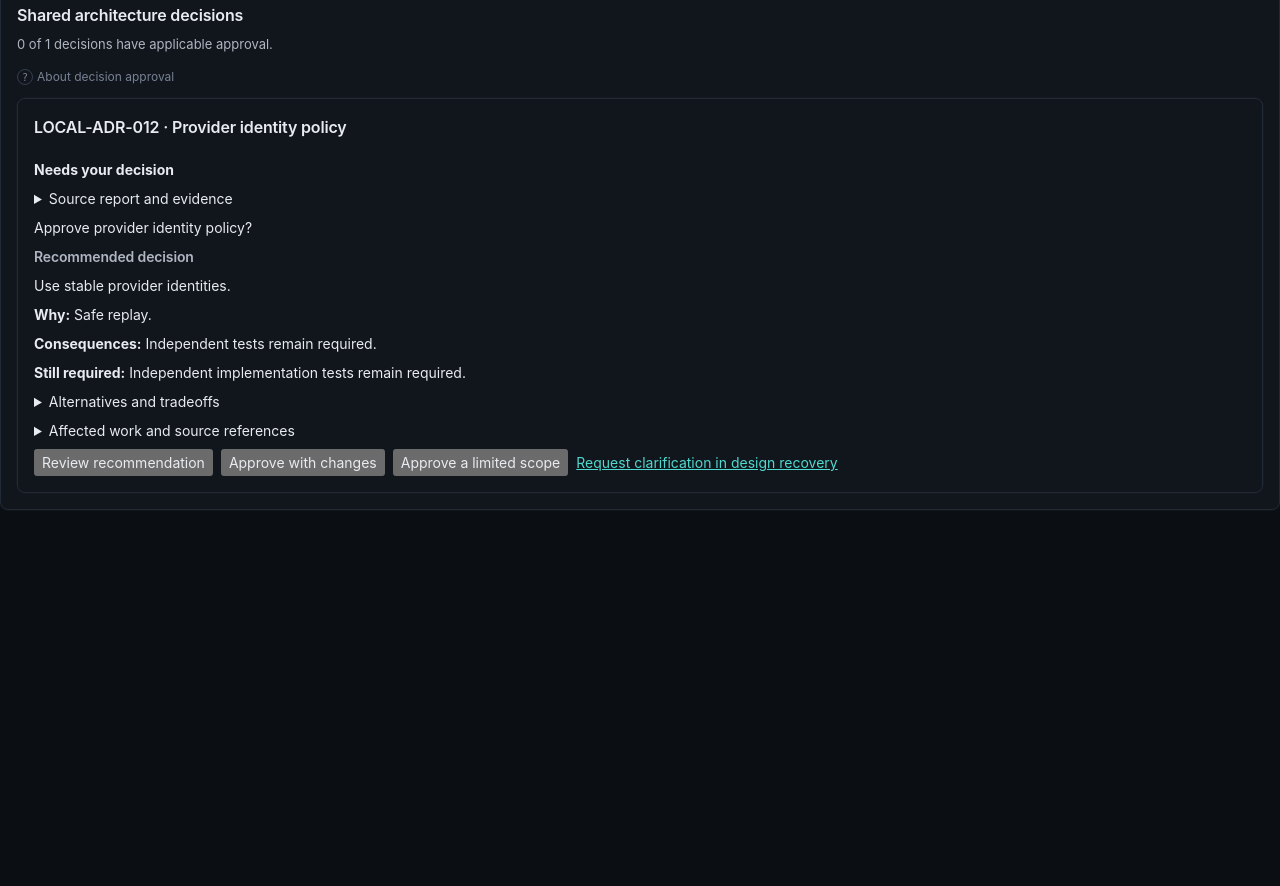
Test: collects references, reviews an immutable proposal, and requires explicit approval before sharing it
Expected: the text "Needs your decision" is shown, top-left (34, 161), bottom-right (174, 178)
Click the button "Review recommendation" at [123, 462], box top-left (34, 449), bottom-right (213, 476)
(page scrolled)
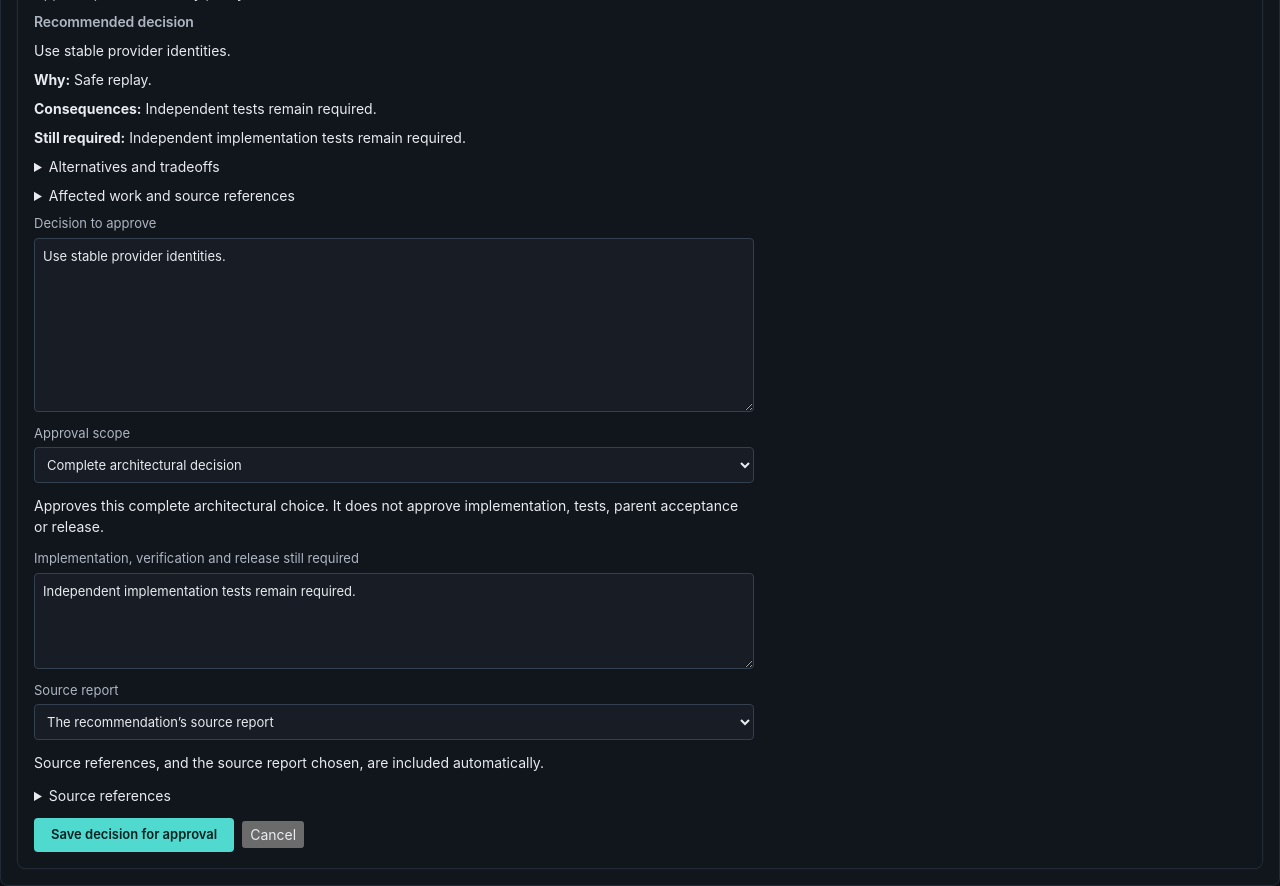
Expected: the text box labelled "Decision to approve" holds "Use stable provider identities.", top-left (34, 238), bottom-right (754, 412)
Click the button "Save decision for approval" at [134, 835], box top-left (34, 818), bottom-right (234, 852)
(page scrolled)
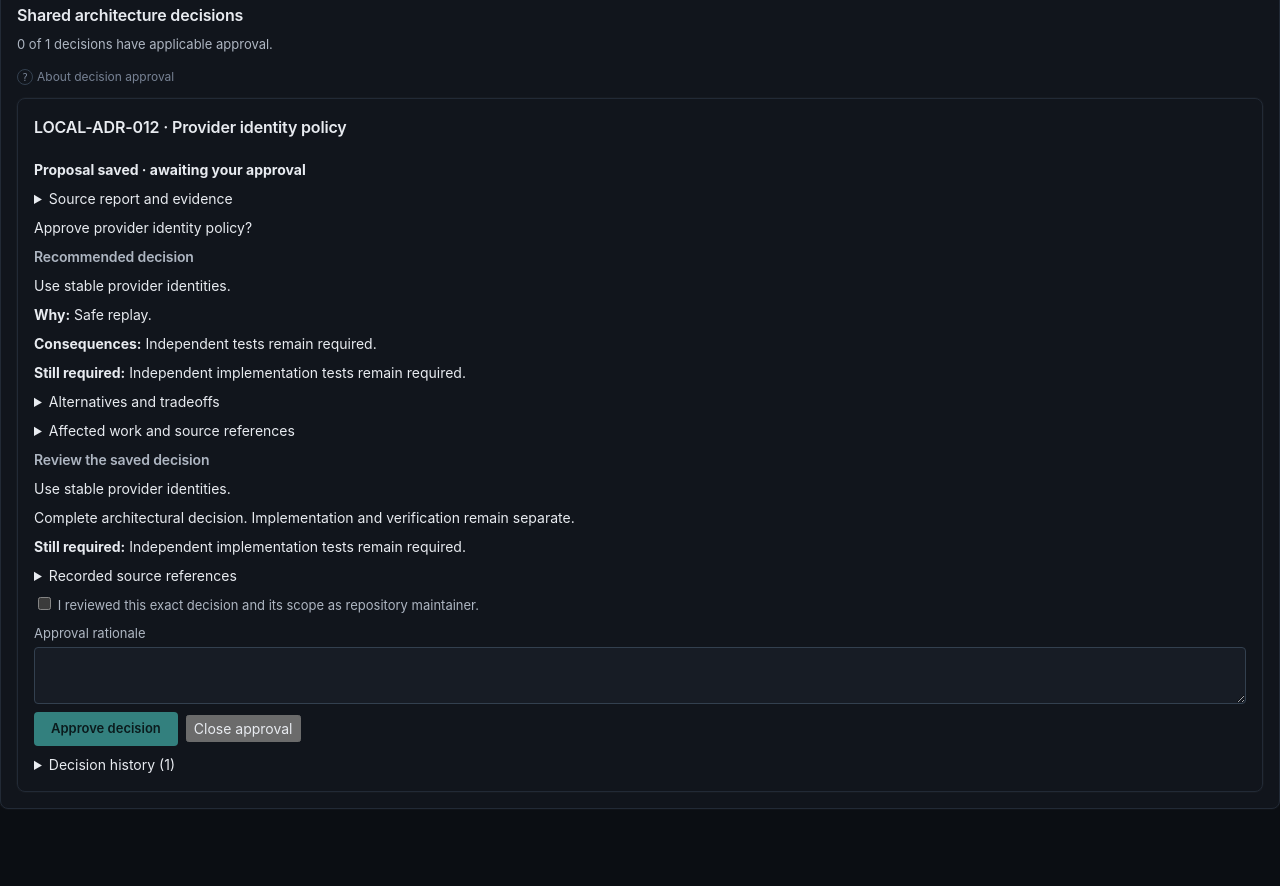
Expected: the button "Approve decision" is disabled, top-left (34, 712), bottom-right (178, 746)
Click the checkbox labelled "I reviewed this exact decision" at [44, 604], box top-left (38, 597), bottom-right (51, 610)
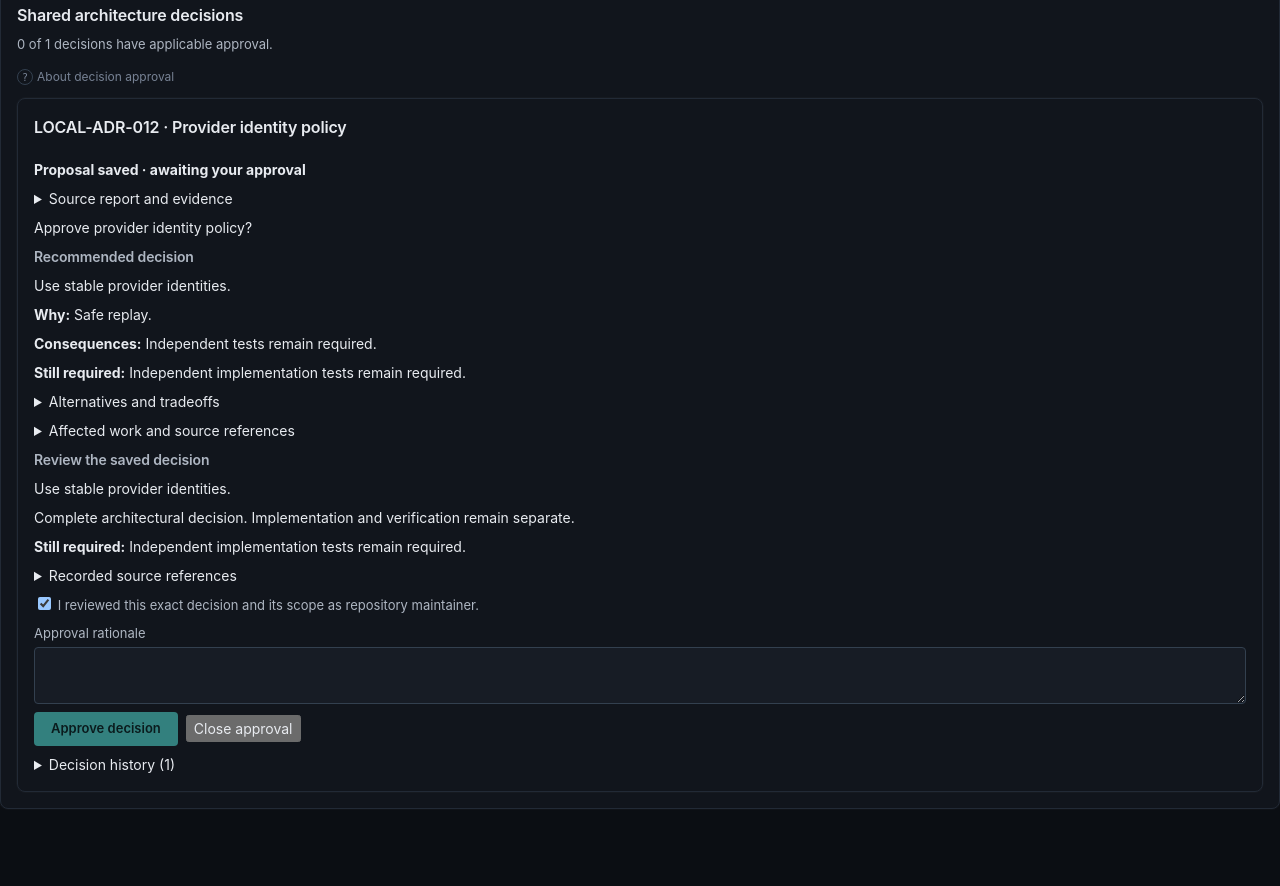
Type "Fits replay needs." into the text box labelled "Approval rationale" at [640, 676], box top-left (34, 647), bottom-right (1246, 704)
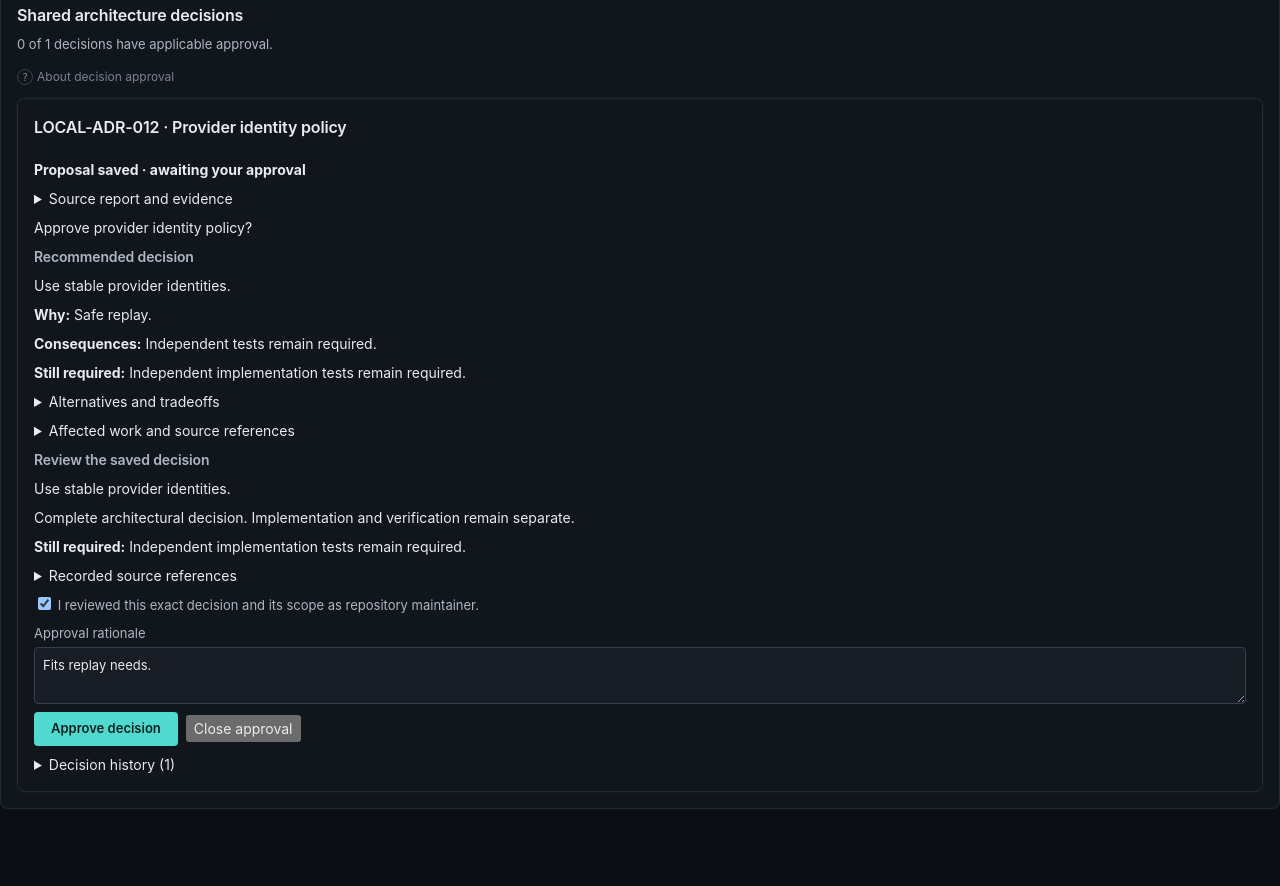
Click the button "Approve decision" at [106, 729], box top-left (34, 712), bottom-right (178, 746)
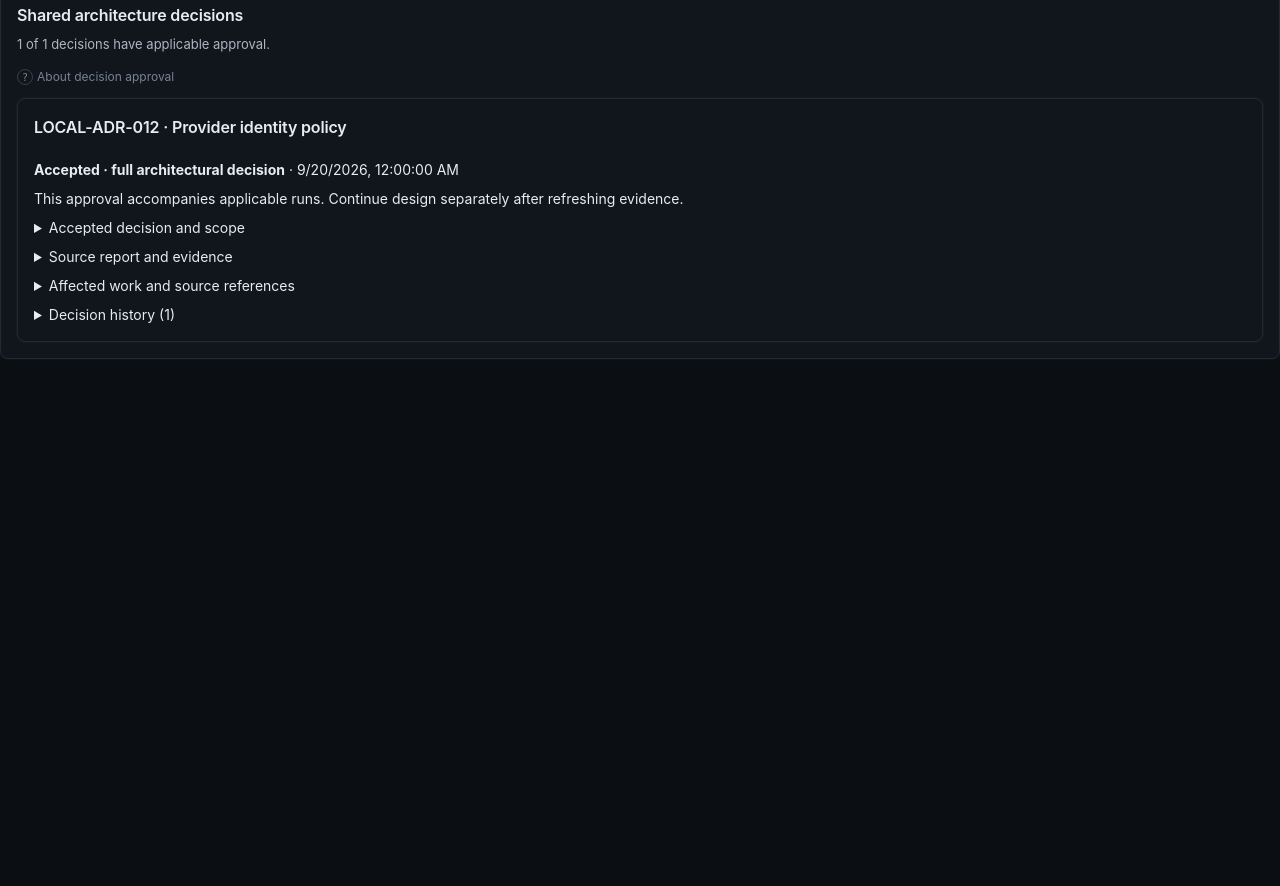
Expected: the text "Accepted · full architectural decision" is shown, top-left (34, 161), bottom-right (285, 178)
